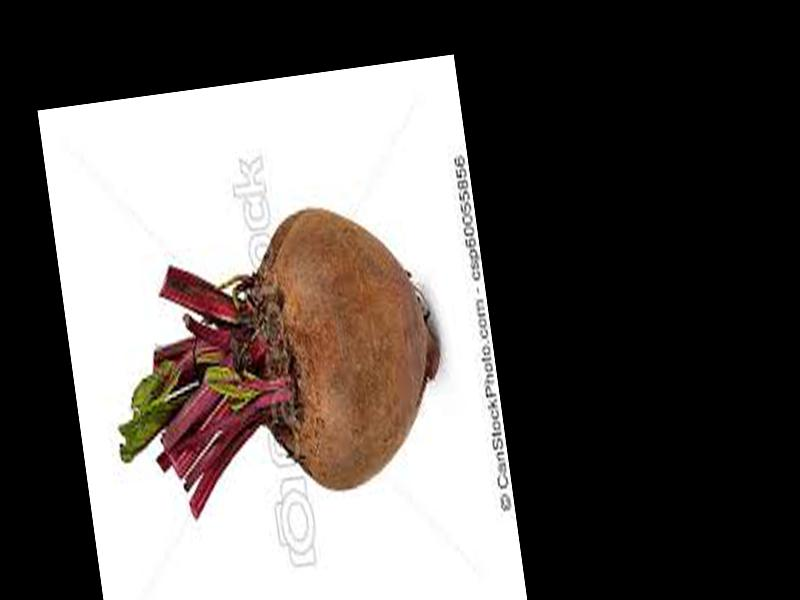Beet: (91, 191, 456, 527)
